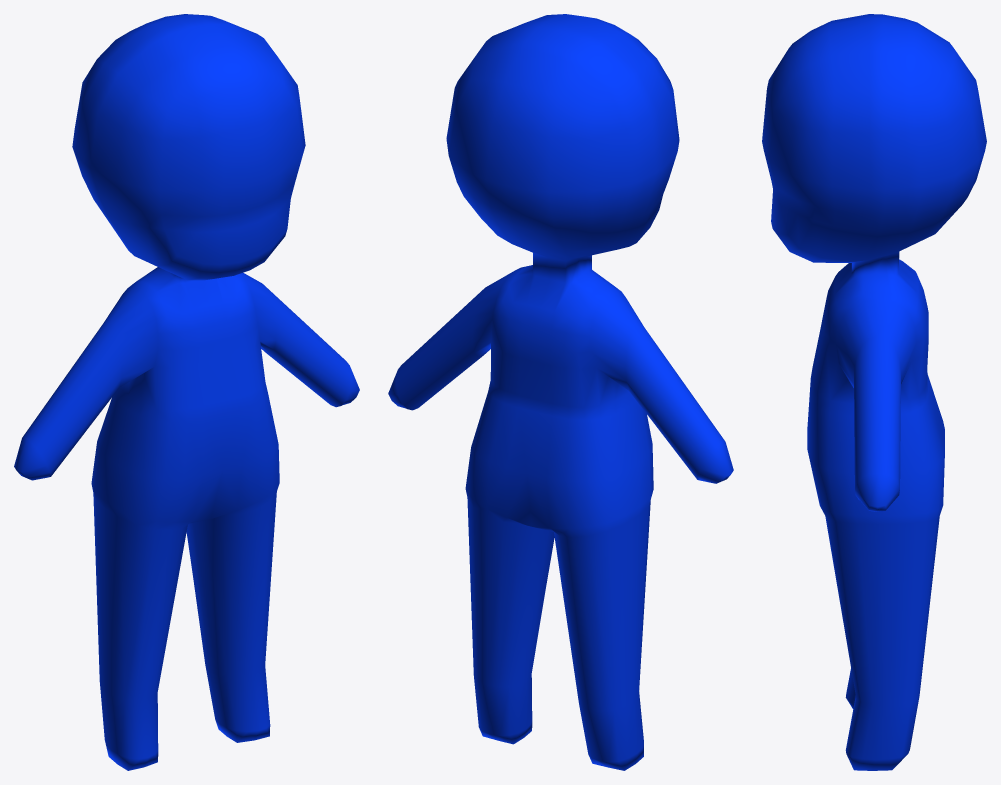
File: Player_ColourTexture_NoRig.fbx
The picture shows the model from 3 angles, left to right: view 1: azimuth 30°, elevation 25°; view 2: azimuth 150°, elevation 25°; view 3: azimuth 270°, elevation 25°; orthographic projection.
Visible parts, largest first — view 1: pCube3; view 2: pCube3; view 3: pCube3.
Part boxes in pixels (x1,y1,x2,y2): pCube3: [14, 14, 359, 770]; pCube3: [388, 14, 733, 770]; pCube3: [762, 14, 986, 770].
Size of the model in its own units: 5.84 by 11.8 by 3.39.
Materials: 1 (1 with a texture image).
